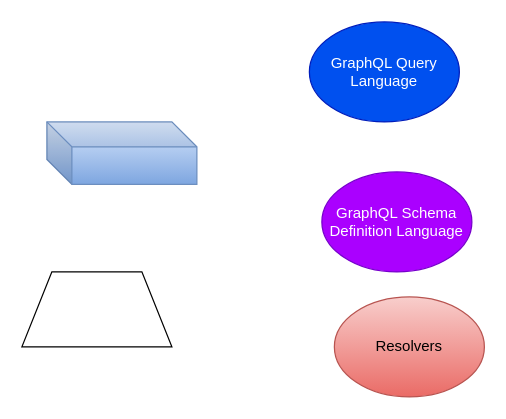
This 506x419 diagram has some shape labels left out. The centre of each missing label's shape, as x and y in pixels:
GraphQL Service: (96,309)
Type: (121,152)
